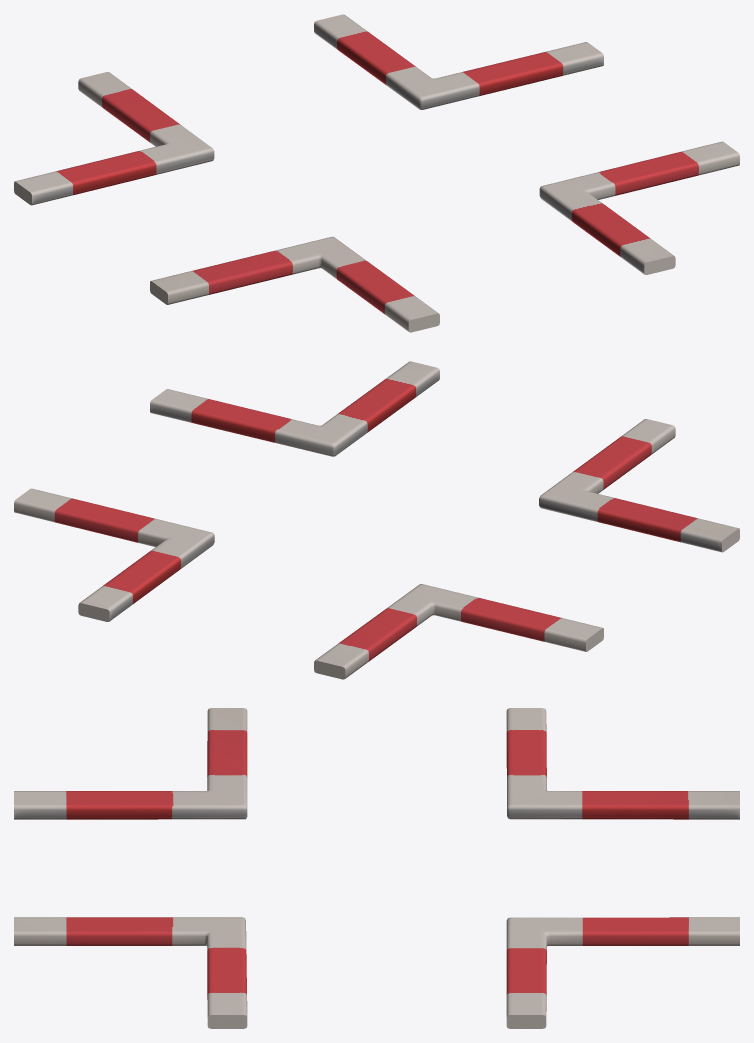
Rendered from Road_Cross_Out.fbx.
3 renders of one model, top to bottom at view 1: azimuth 30°, elevation 25°; view 2: azimuth 150°, elevation 25°; view 3: azimuth 270°, elevation 25°, orthographic. The views are drawn at different scales.
Visible parts, largest first — view 1: Road_Cross_Out; view 2: Road_Cross_Out; view 3: Road_Cross_Out.
Boxes of the visible parts, x1=… form: Road_Cross_Out: x1=14, y1=14, x2=739, y2=332; Road_Cross_Out: x1=14, y1=361, x2=739, y2=679; Road_Cross_Out: x1=14, y1=708, x2=739, y2=1028.
Size of the model in its own units: 1500 by 31.69 by 1500.
